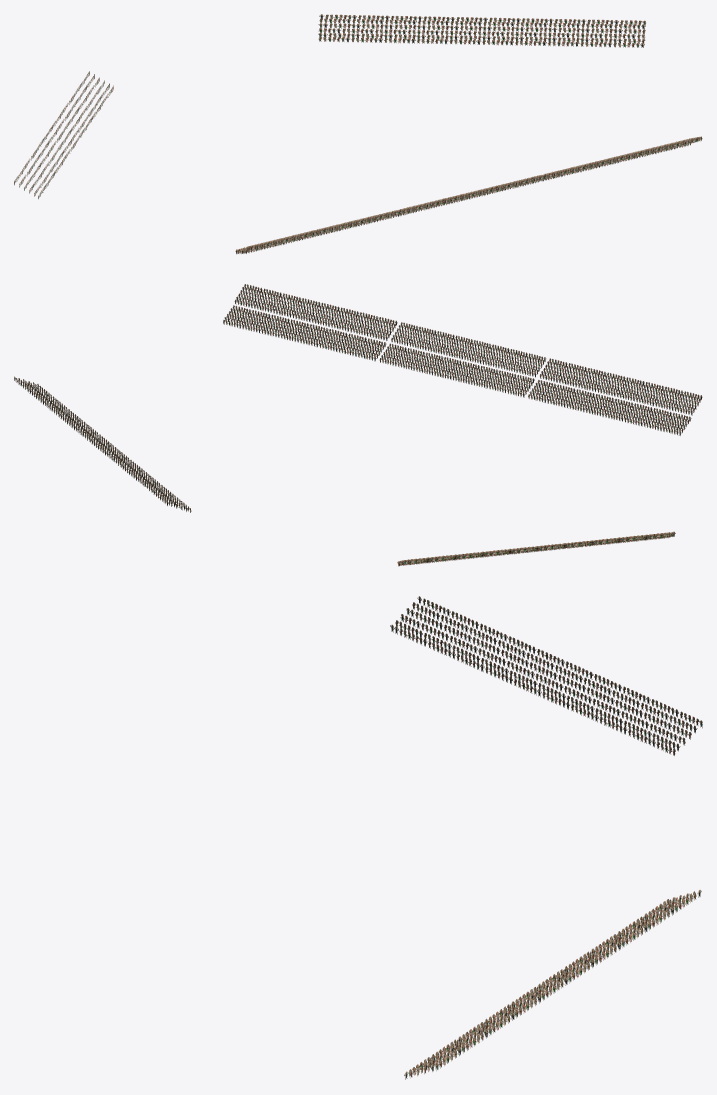
Rendered from Track5_Peoples.fbx.
3 views of the same model, one above another, from view 1: azimuth 30°, elevation 25°; view 2: azimuth 150°, elevation 25°; view 3: azimuth 270°, elevation 25° (orthographic). The views are drawn at different scales.
Parts seen in each view (by area): view 1: polySurface22, polySurface19, polySurface23, polySurface21, polySurface24, polySurface20, polySurface16, polySurface52, polySurface40; view 2: polySurface18, polySurface27, polySurface24, polySurface5, polySurface11, polySurface47, polySurface21, polySurface41, polySurface16, polySurface13, polySurface46, polySurface52 (+31 smaller); view 3: polySurface18, polySurface26, polySurface27, polySurface17, polySurface28, polySurface24, polySurface25, polySurface21, polySurface23, polySurface19, polySurface20, polySurface22.
Part boxes in pixels (x1,y1,x2,y2): polySurface22: [318, 23, 645, 34]; polySurface19: [318, 37, 644, 47]; polySurface23: [319, 18, 645, 29]; polySurface21: [318, 28, 645, 38]; polySurface24: [319, 14, 645, 25]; polySurface20: [318, 33, 645, 43]; polySurface16: [256, 209, 405, 249]; polySurface52: [553, 136, 702, 176]; polySurface40: [408, 173, 549, 212]; polySurface18: [403, 531, 675, 564]; polySurface27: [401, 532, 672, 565]; polySurface24: [14, 376, 168, 505]; polySurface5: [528, 394, 681, 435]; polySurface11: [540, 374, 693, 415]; polySurface47: [234, 299, 387, 340]; polySurface21: [28, 381, 182, 510]; polySurface41: [223, 320, 376, 361]; polySurface16: [549, 358, 702, 399]; polySurface13: [543, 368, 696, 409]; polySurface46: [232, 305, 386, 346]; polySurface52: [244, 284, 397, 325]; polySurface18: [417, 596, 702, 728]; polySurface26: [400, 614, 685, 745]; polySurface27: [406, 608, 691, 739]; polySurface17: [390, 624, 675, 755]; polySurface28: [412, 602, 697, 733]; polySurface24: [436, 890, 701, 1071]; polySurface25: [395, 620, 680, 751]; polySurface21: [416, 895, 681, 1076]; polySurface23: [430, 891, 695, 1071]; polySurface19: [404, 899, 668, 1079]; polySurface20: [410, 897, 675, 1078]; polySurface22: [423, 893, 689, 1074].
Size of the model in its own units: 18263 by 682 by 11331.
